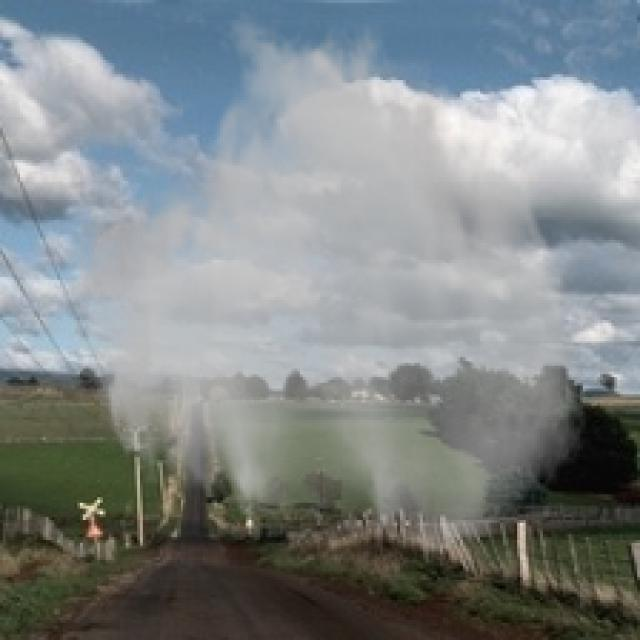smoke: (66, 9, 591, 557)
